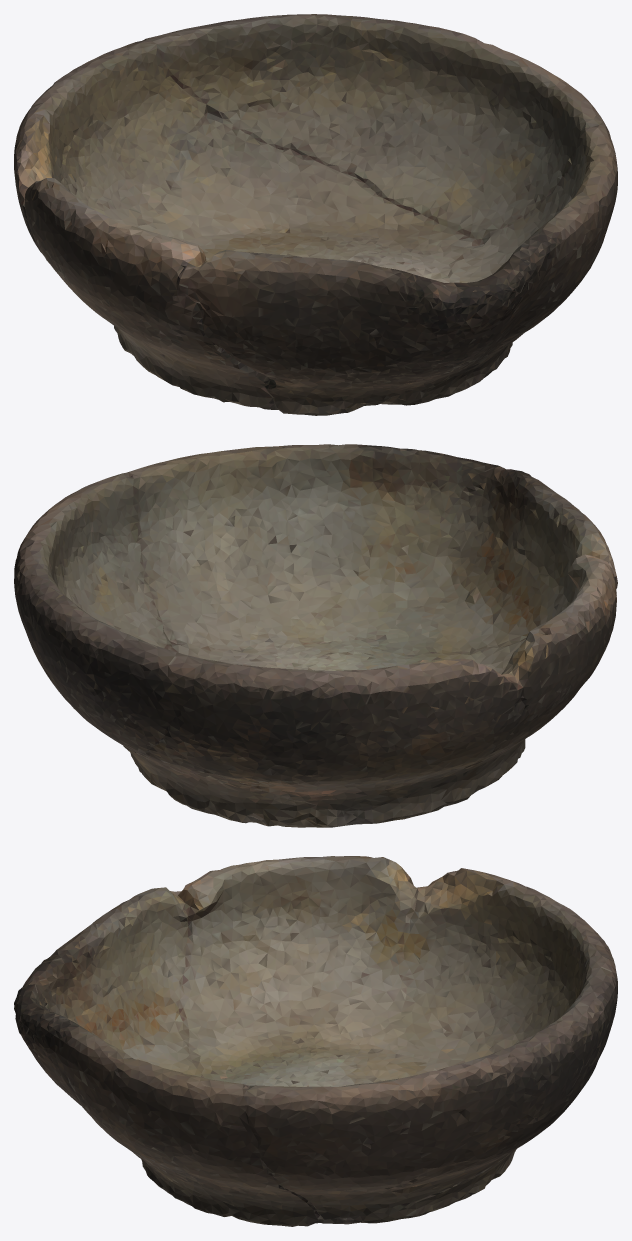
Rendered from luce2.dae.
3 renders of one model, top to bottom at view 1: azimuth 30°, elevation 25°; view 2: azimuth 150°, elevation 25°; view 3: azimuth 270°, elevation 25°, orthographic. The views are drawn at different scales.
Visible parts, largest first — view 1: node; view 2: node; view 3: node.
Boxes of the visible parts, left/top/right/bottom form: node: left=14, top=14, right=617, bottom=415; node: left=14, top=444, right=617, bottom=827; node: left=14, top=856, right=617, bottom=1226.
Size of the model in its own units: 0.6388 by 0.2361 by 0.6748.
1 material, 1 textured.
